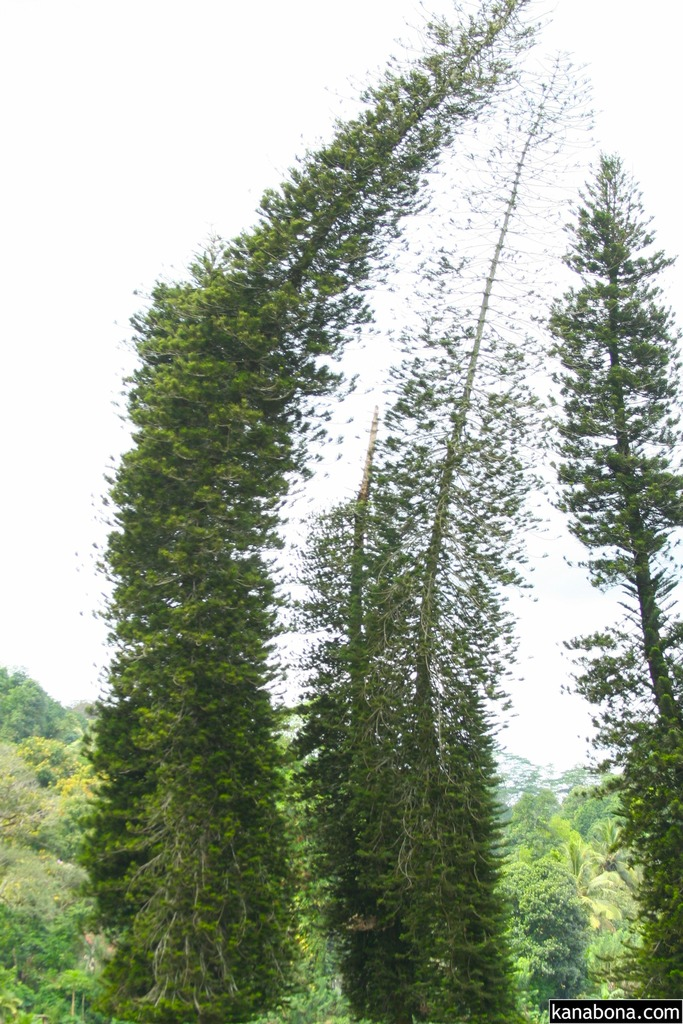Tree: (72, 0, 531, 1024), (370, 40, 600, 1019), (557, 150, 683, 858), (299, 403, 396, 1024)
